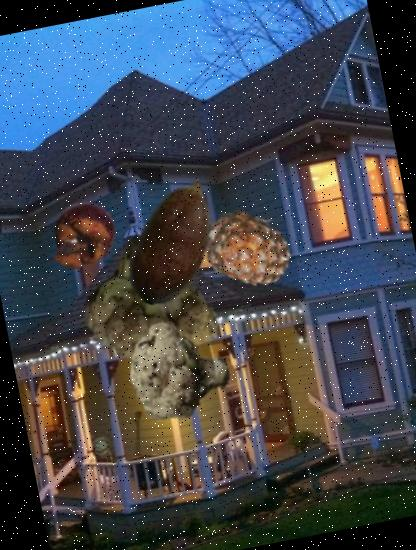Cauliflower: (76, 222, 236, 384), (117, 308, 240, 430)
Mangostan: (40, 194, 126, 280)
Nut: (95, 162, 252, 320)
Pineapple: (195, 196, 301, 302)
